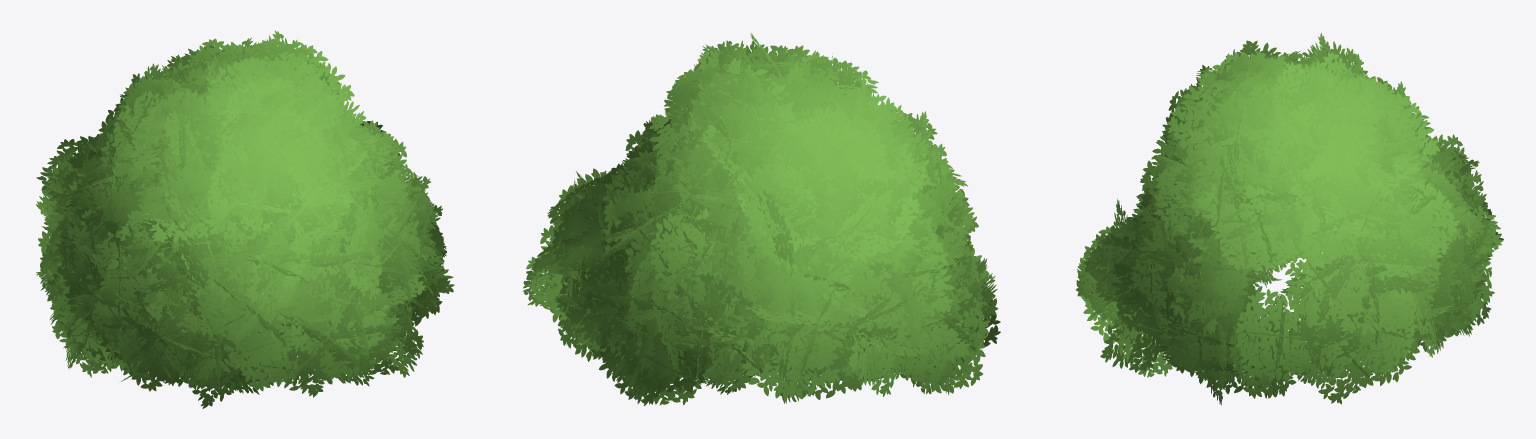
Rendered from SM_Nature_BackgroundTreeBush_01.fbx.
3 renders of one model, left to right at view 1: azimuth 30°, elevation 25°; view 2: azimuth 150°, elevation 25°; view 3: azimuth 270°, elevation 25°, orthographic. The views are drawn at different scales.
Visible parts, largest first — view 1: BackgroundTreeBush_01; view 2: BackgroundTreeBush_01; view 3: BackgroundTreeBush_01.
Part boxes in pixels (x1,y1,x2,y2): BackgroundTreeBush_01: (36,30,454,408); BackgroundTreeBush_01: (522,33,1000,406); BackgroundTreeBush_01: (1076,33,1503,405).
Bounding box in the file's own units: 1105 × 856 × 1086.
